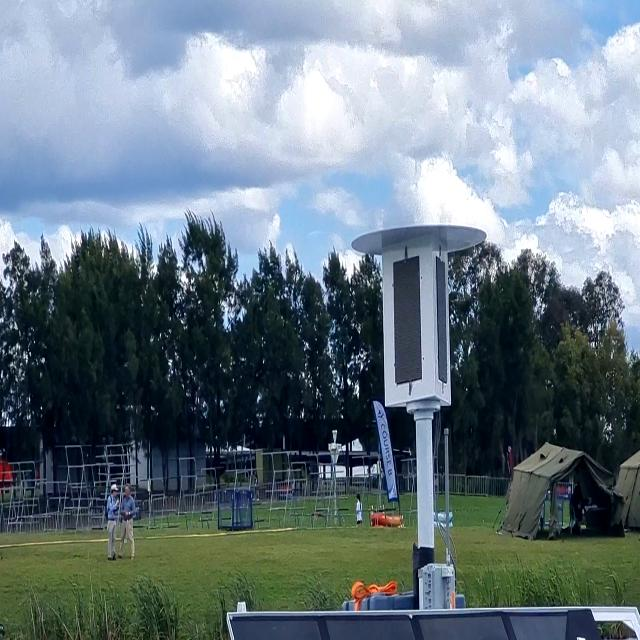led: (388, 250, 427, 392)
